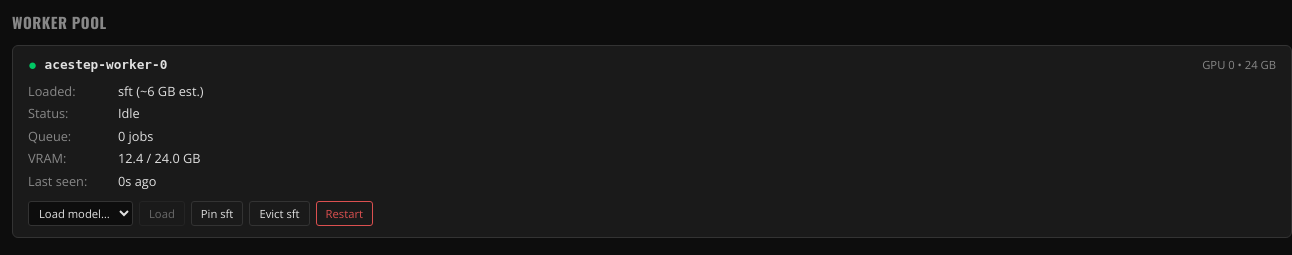
it: WorkerPoolPanel with a healthy online worker › leaves the mode-select, Load, Pin, Evict, and Restart all usable
Step 1. Select "turbo" in the dropdown with class "mode-select" → (80, 213), box x1=28 y1=201 x2=133 y2=226
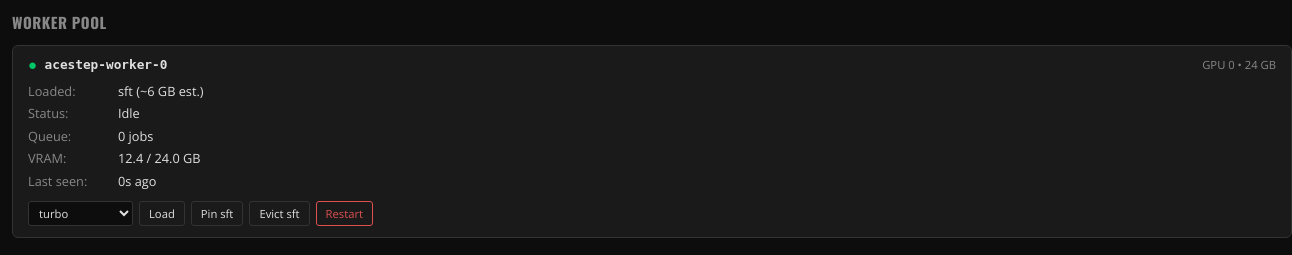
Expected: the button "Pin sft" is enabled, x1=191 y1=201 x2=243 y2=226
Result: the button "Load" is enabled at x1=139 y1=201 x2=185 y2=226
